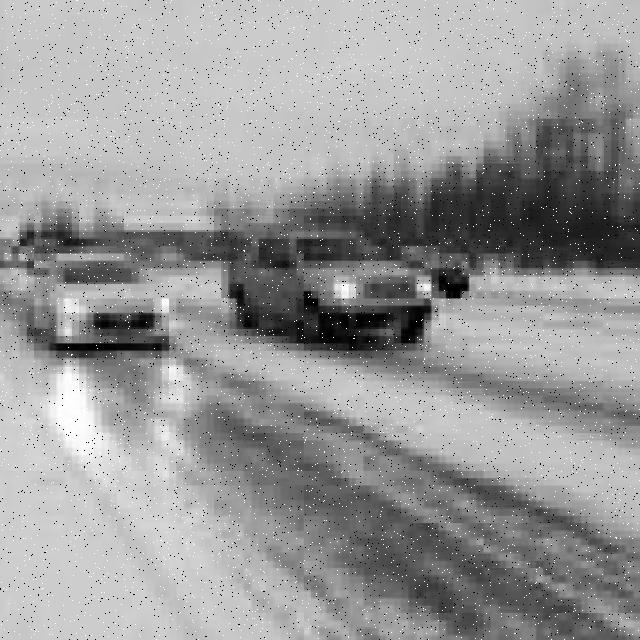ice-road: (87, 358, 640, 640), (431, 321, 640, 414)
